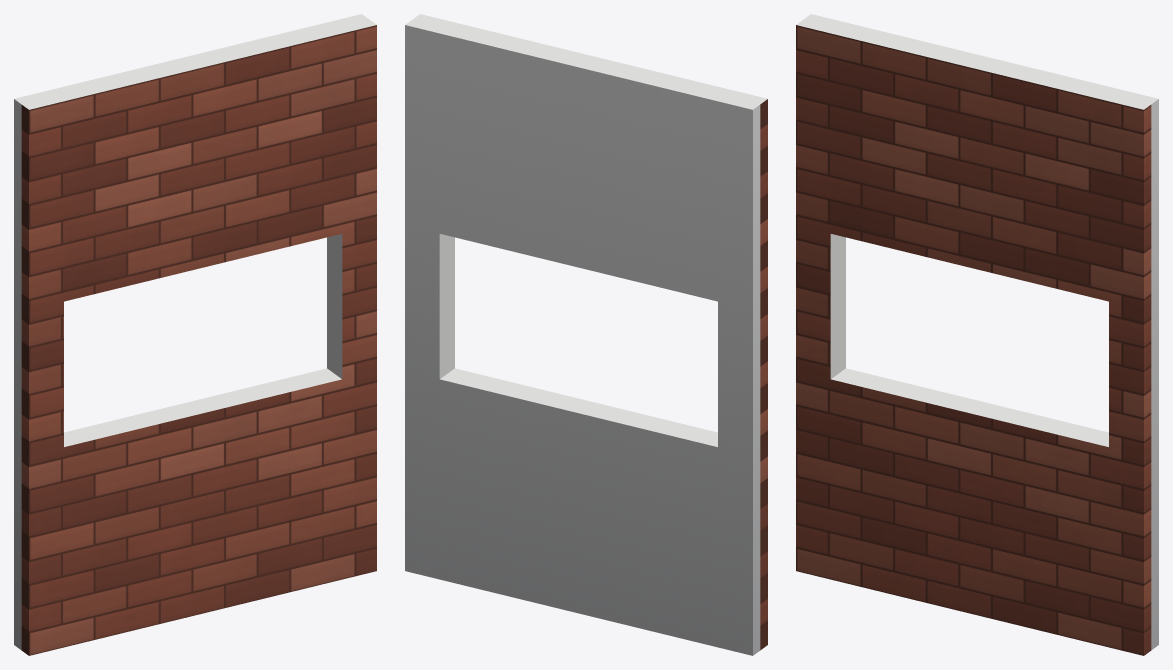
Rendered from janela_larga_2m.glb.
3 views of the same model, side by side, from view 1: azimuth 30°, elevation 25°; view 2: azimuth 150°, elevation 25°; view 3: azimuth 330°, elevation 25° (orthographic).
Visible parts, largest first — view 1: janela_larga_2m; view 2: janela_larga_2m; view 3: janela_larga_2m.
Part boxes in pixels (x1,y1,x2,y2): janela_larga_2m: (14, 14, 376, 655); janela_larga_2m: (405, 14, 767, 655); janela_larga_2m: (796, 14, 1158, 655).
Bounding box in the file's own units: 2 × 3 × 0.15.
3 materials, 2 textured.
